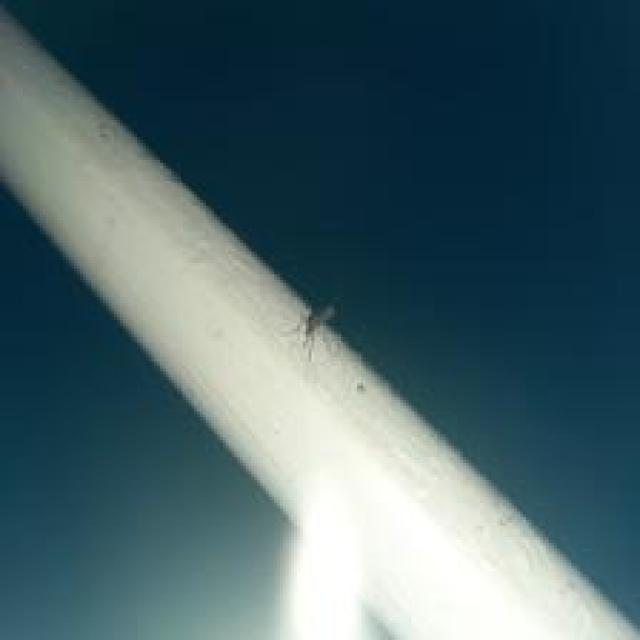Culex: (292, 302, 337, 362)
